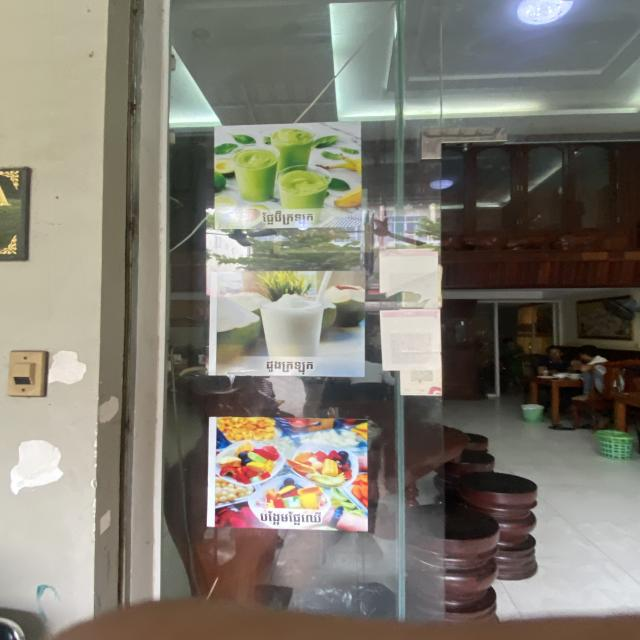Yolov11kh: (253, 508, 328, 527), (254, 208, 319, 227), (263, 358, 322, 376)
